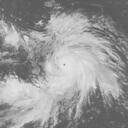cyclone: (37, 32, 114, 96)
